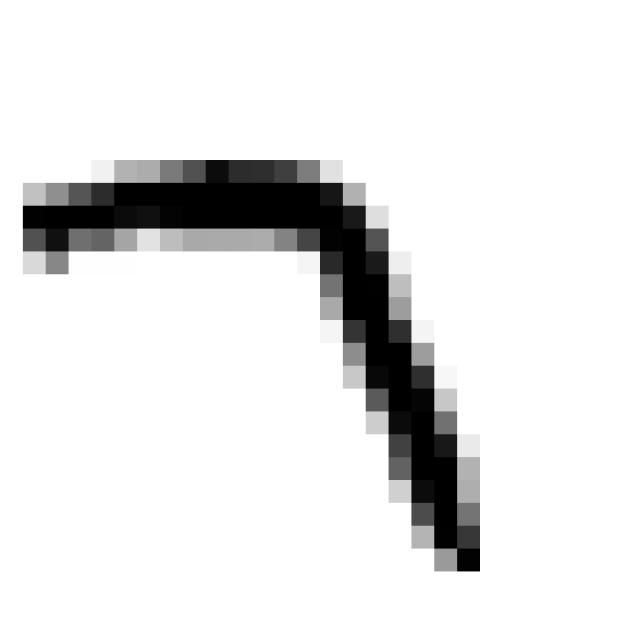6 -six-: (7, 139, 496, 595)
